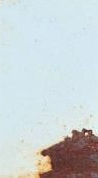Corrosion: (37, 127, 98, 178)
